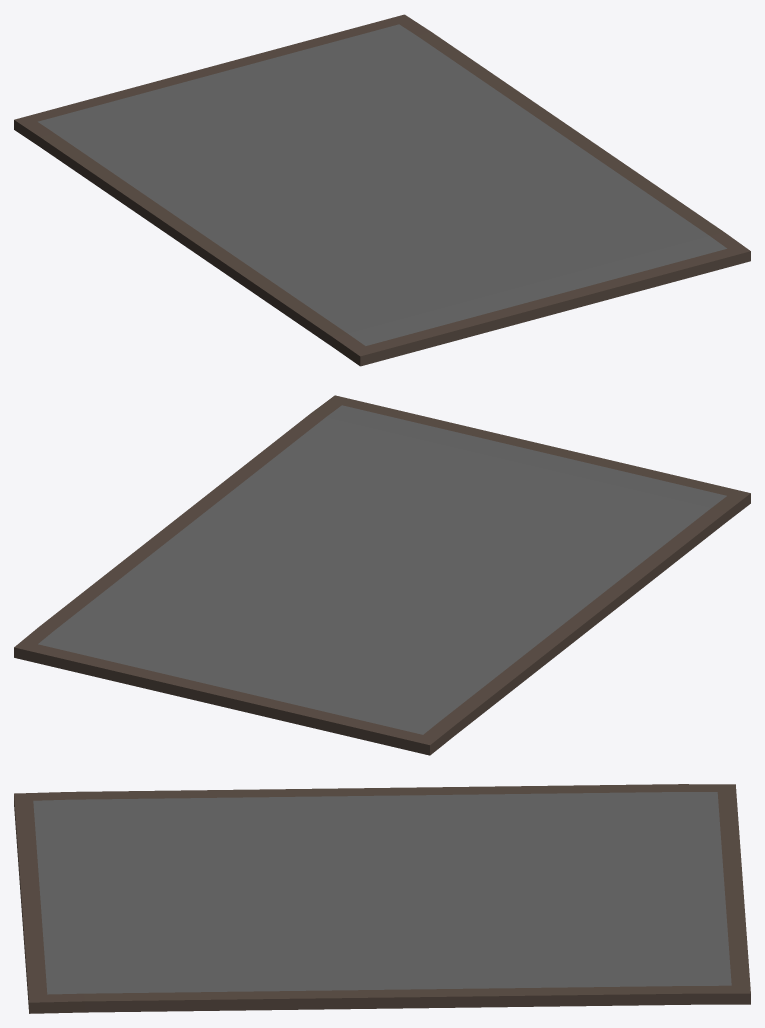
The model's file is train_elevator.glb.
3 views of the same model, one above another, from view 1: azimuth 30°, elevation 25°; view 2: azimuth 150°, elevation 25°; view 3: azimuth 270°, elevation 25° (orthographic). The views are drawn at different scales.
Visible parts, largest first — view 1: TrainElevator; view 2: TrainElevator; view 3: TrainElevator.
Part boxes in pixels (box(x1,y1,x2,y2)): TrainElevator: box(14, 14, 750, 366); TrainElevator: box(14, 395, 750, 755); TrainElevator: box(14, 784, 750, 1013).
Size of what is drawn, in the model's own units: 2.04 by 0.0658 by 2.87.
Materials: 1 (1 with a texture image).
